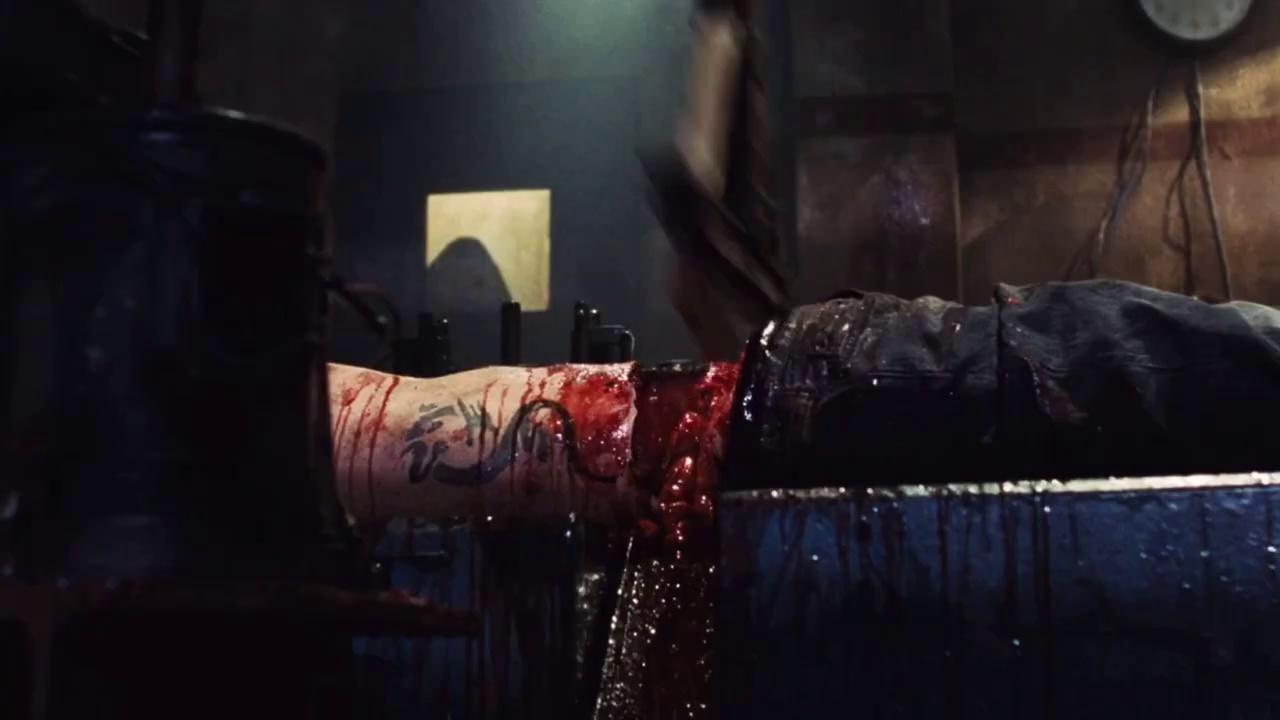Fire: (327, 362, 741, 718), (717, 482, 1190, 718), (726, 293, 894, 488)
